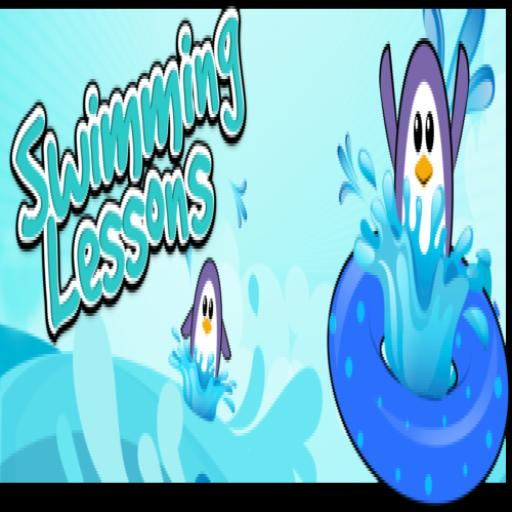swimming: (336, 32, 499, 401), (167, 255, 236, 424)
